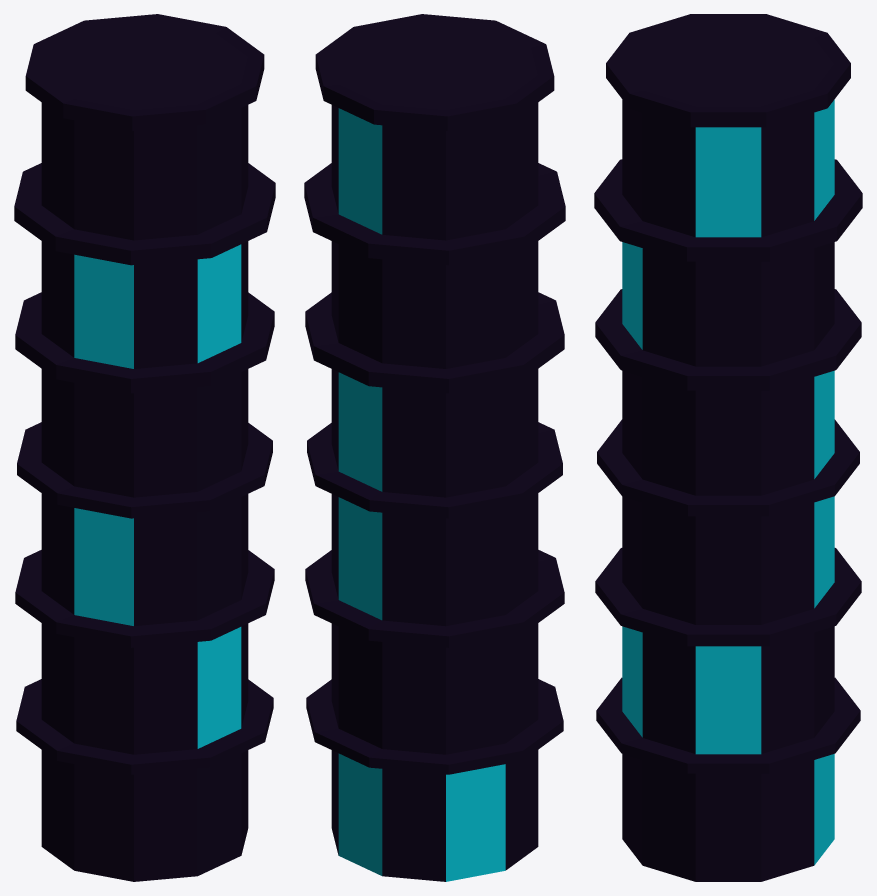
The model's file is Oscuro Edificio 3.glb.
3 views of the same model, side by side, from view 1: azimuth 30°, elevation 25°; view 2: azimuth 150°, elevation 25°; view 3: azimuth 270°, elevation 25° (orthographic).
Visible parts, largest first — view 1: Cylinder.002; view 2: Cylinder.002; view 3: Cylinder.002.
Part boxes in pixels (x1,y1,x2,y2): Cylinder.002: [14, 14, 275, 881]; Cylinder.002: [304, 14, 565, 881]; Cylinder.002: [594, 14, 862, 881].
Bounding box in the file's own units: 23.9 × 80.14 × 25.13.
